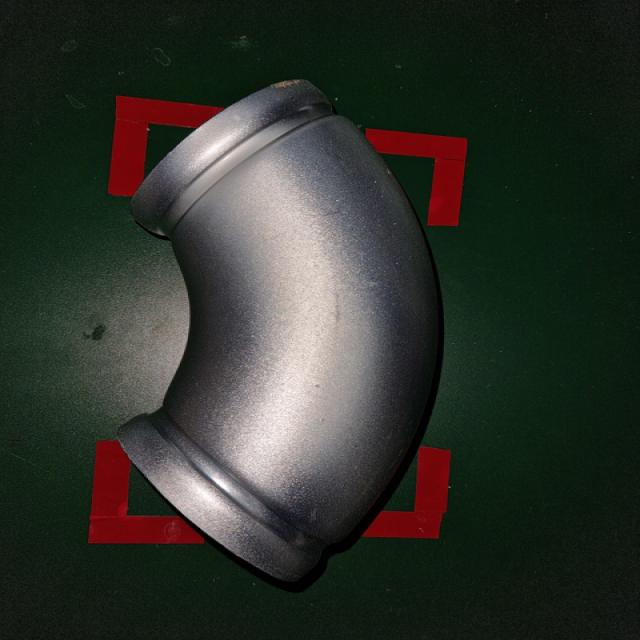Normal: (110, 76, 457, 592)
